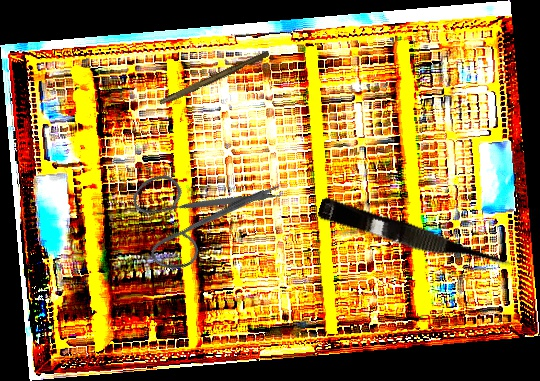Iris Scissors: (109, 118, 287, 300)
Micro Scissor: (315, 196, 515, 280)
Scalpel Handle: (159, 48, 270, 109)
